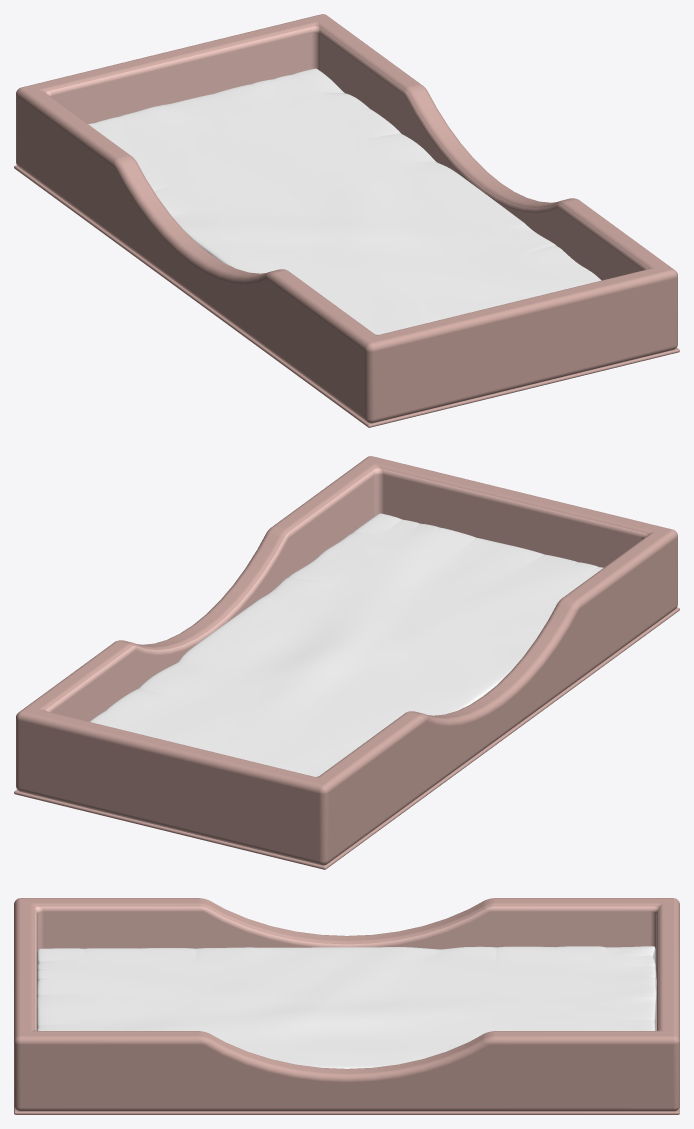
The picture shows the model from 3 angles, top to bottom: view 1: azimuth 30°, elevation 25°; view 2: azimuth 150°, elevation 25°; view 3: azimuth 270°, elevation 25°; orthographic projection. The views are drawn at different scales.
Visible parts, largest first — view 1: root; view 2: root; view 3: root.
Part boxes in pixels (<box>): root: <box>14,14,679,427</box>; root: <box>14,456,679,869</box>; root: <box>14,898,679,1114</box>.
Size of the model in its own units: 1.02 by 0.2555 by 2.01.
